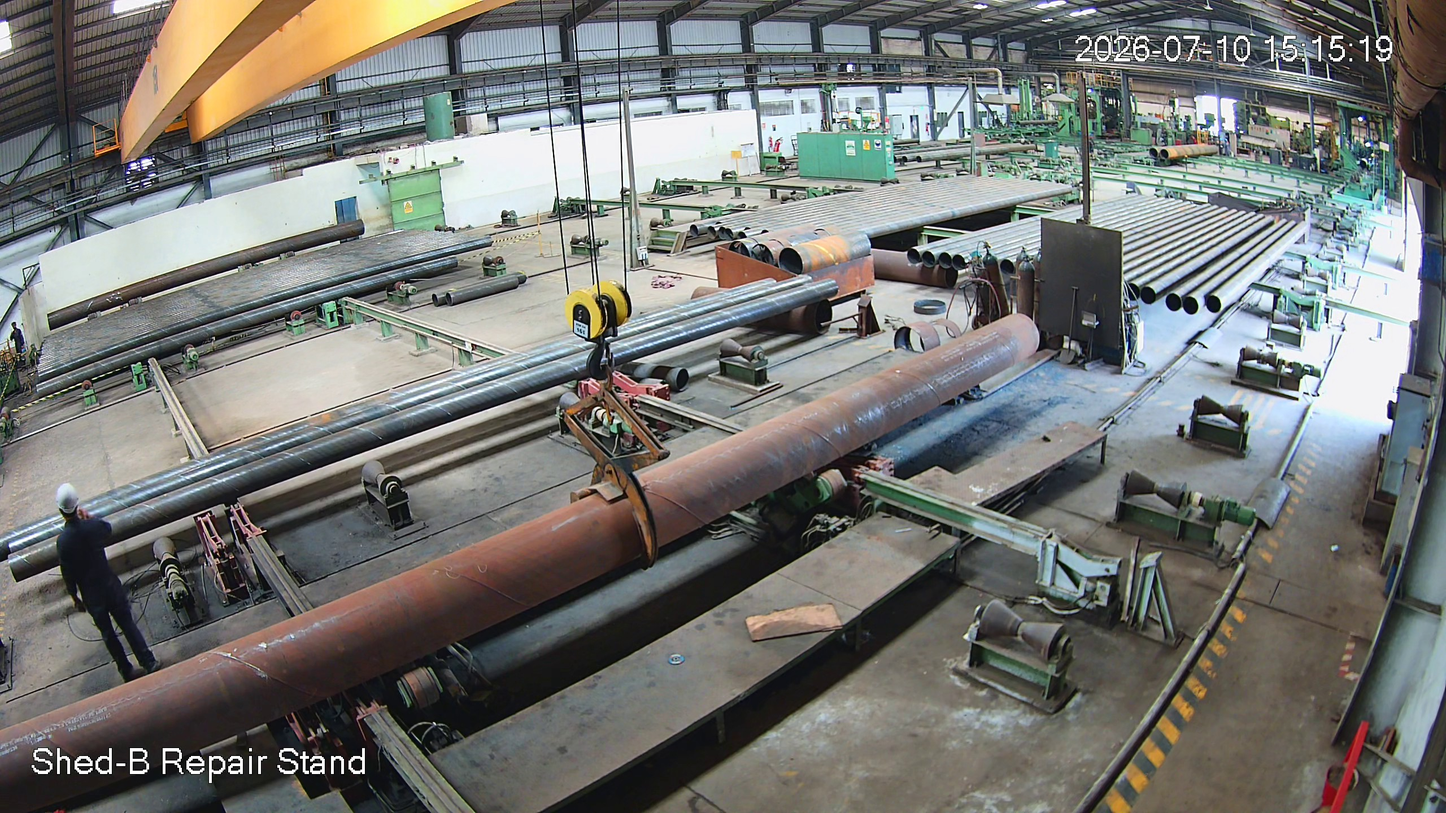Helmet: (42, 478, 113, 552)
Person: (34, 482, 175, 698)
